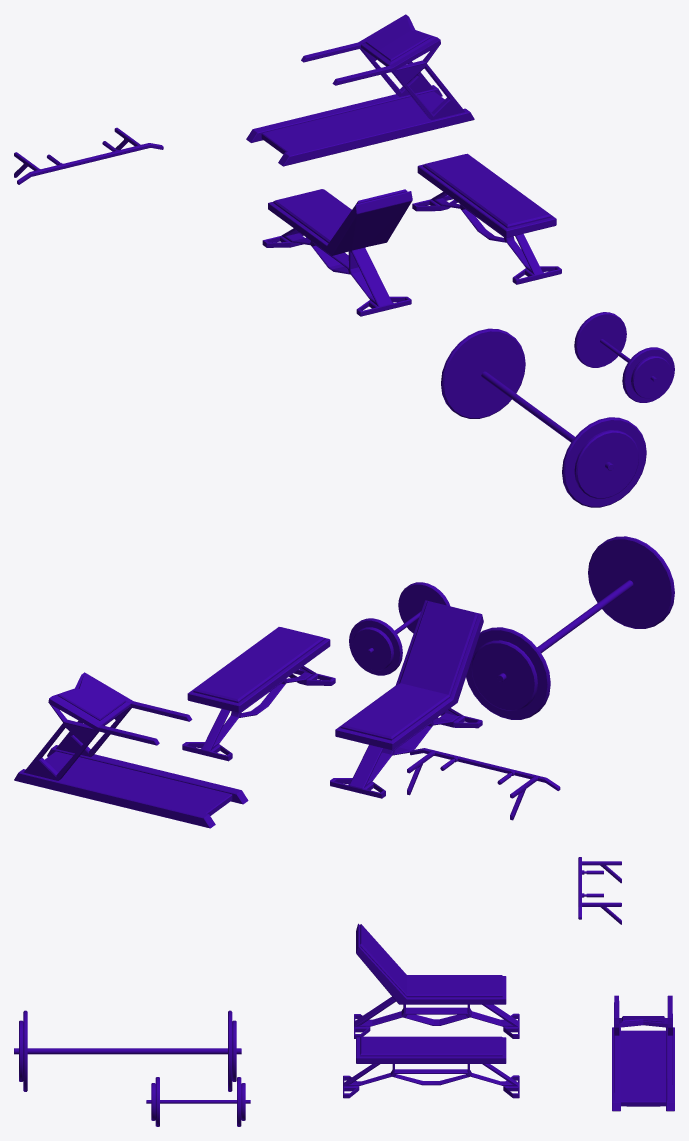
Rendered from mobiliario2.fbx.
The picture shows the model from 3 angles, top to bottom: view 1: azimuth 30°, elevation 25°; view 2: azimuth 150°, elevation 25°; view 3: azimuth 270°, elevation 25°; orthographic projection. The views are drawn at different scales.
Visible parts, largest first — view 1: pCube197, pCylinder2, pCube198, pCube196, pCylinder3, pCube199; view 2: pCube197, pCylinder2, pCube198, pCube196, pCylinder3, pCube199; view 3: pCube198, pCube196, pCube197, pCylinder2, pCylinder3, pCube199.
Boxes of the visible parts, box(x1,y1,x2,y2) form: pCube197: box(246, 14, 474, 166); pCylinder2: box(441, 328, 646, 507); pCube198: box(262, 189, 412, 316); pCube196: box(412, 153, 561, 284); pCylinder3: box(574, 312, 674, 402); pCube199: box(14, 127, 163, 184); pCube197: box(14, 672, 248, 828); pCylinder2: box(466, 536, 674, 719); pCube198: box(330, 600, 483, 798); pCube196: box(182, 627, 335, 761); pCylinder3: box(349, 582, 449, 675); pCube199: box(407, 748, 560, 820); pCube198: box(354, 923, 519, 1038); pCube196: box(343, 1036, 519, 1098); pCube197: box(612, 995, 674, 1111); pCylinder2: box(14, 1010, 241, 1091); pCylinder3: box(146, 1077, 250, 1126); pCube199: box(578, 857, 621, 924).
Size of the model in its own units: 9.41 by 3.24 by 13.4.
